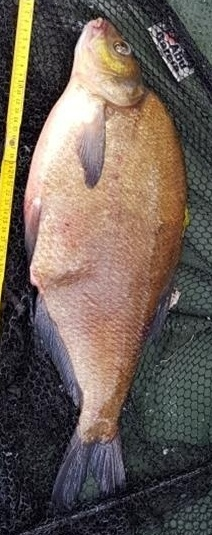Abramis brama: (20, 20, 192, 515)
